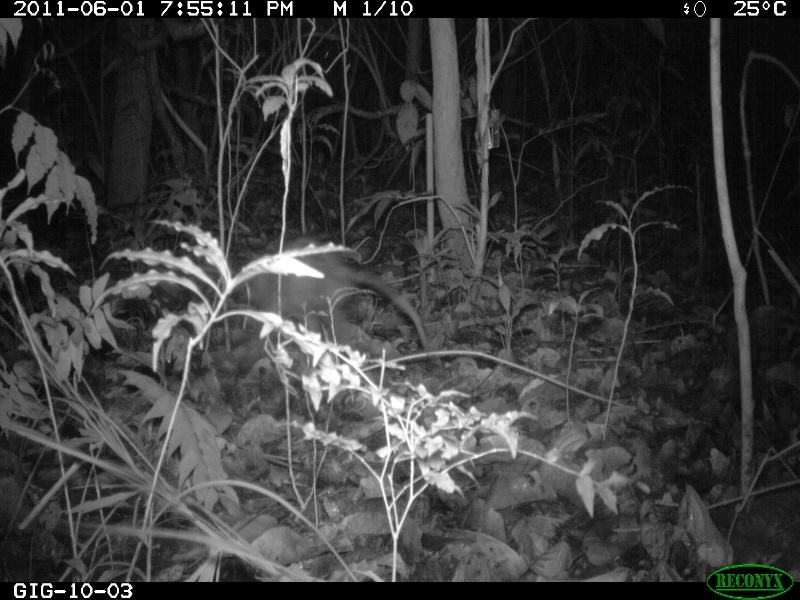opossum: (209, 238, 431, 353)
